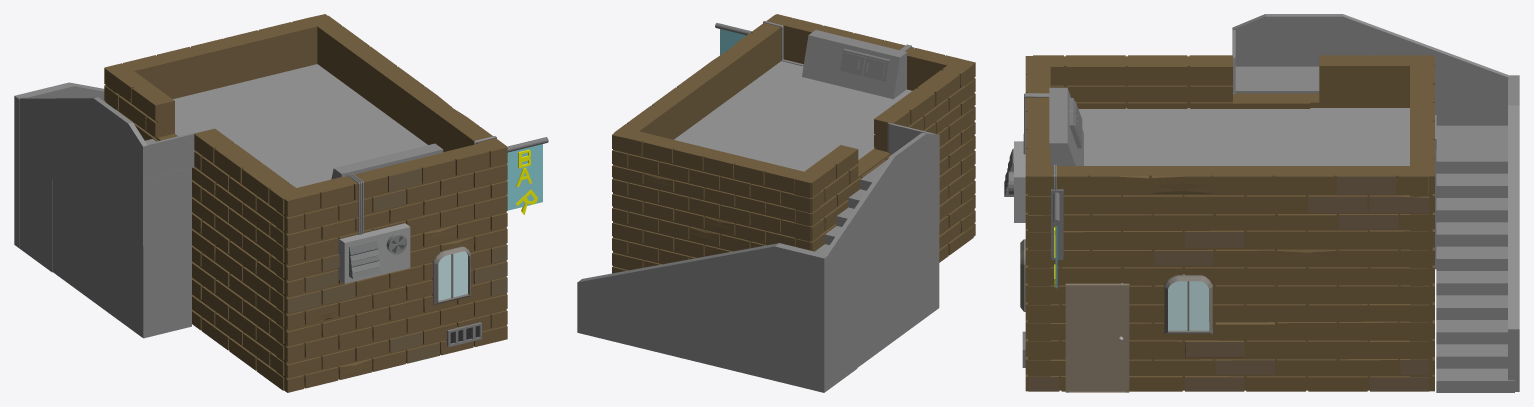
The model's file is fbx bar.fbx.
3 renders of one model, left to right at view 1: azimuth 30°, elevation 25°; view 2: azimuth 150°, elevation 25°; view 3: azimuth 270°, elevation 25°, orthographic. The views are drawn at different scales.
Parts seen in each view (by area): view 1: building1; view 2: building1; view 3: building1.
Part boxes in pixels (bbox=[...]): building1: bbox=[14, 14, 548, 392]; building1: bbox=[577, 14, 975, 392]; building1: bbox=[1004, 14, 1519, 392].
Bounding box in the file's own units: 8.32 × 4.99 × 10.16.
